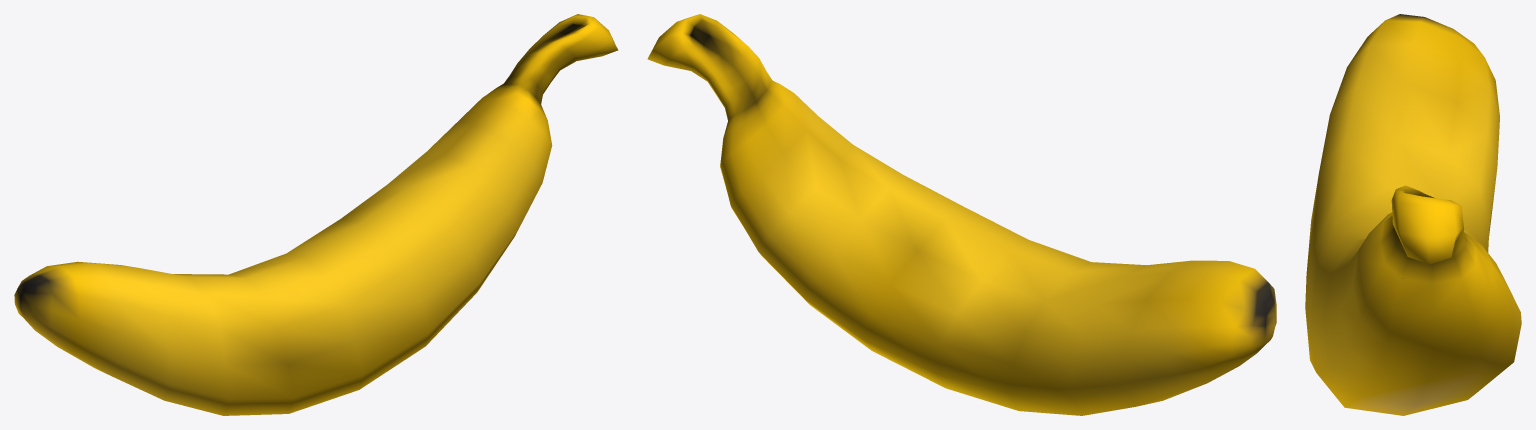
Rendered from Banana.fbx.
The picture shows the model from 3 angles, left to right: view 1: azimuth 30°, elevation 25°; view 2: azimuth 150°, elevation 25°; view 3: azimuth 270°, elevation 25°; orthographic projection. The views are drawn at different scales.
Parts seen in each view (by area): view 1: Cube; view 2: Cube; view 3: Cube.
Part boxes in pixels (x1,y1,x2,y2): Cube: [14, 14, 618, 415]; Cube: [647, 14, 1276, 415]; Cube: [1305, 14, 1521, 415].
Size of the model in its own units: 83.54 by 40.18 by 20.83.
1 material, 1 textured.
